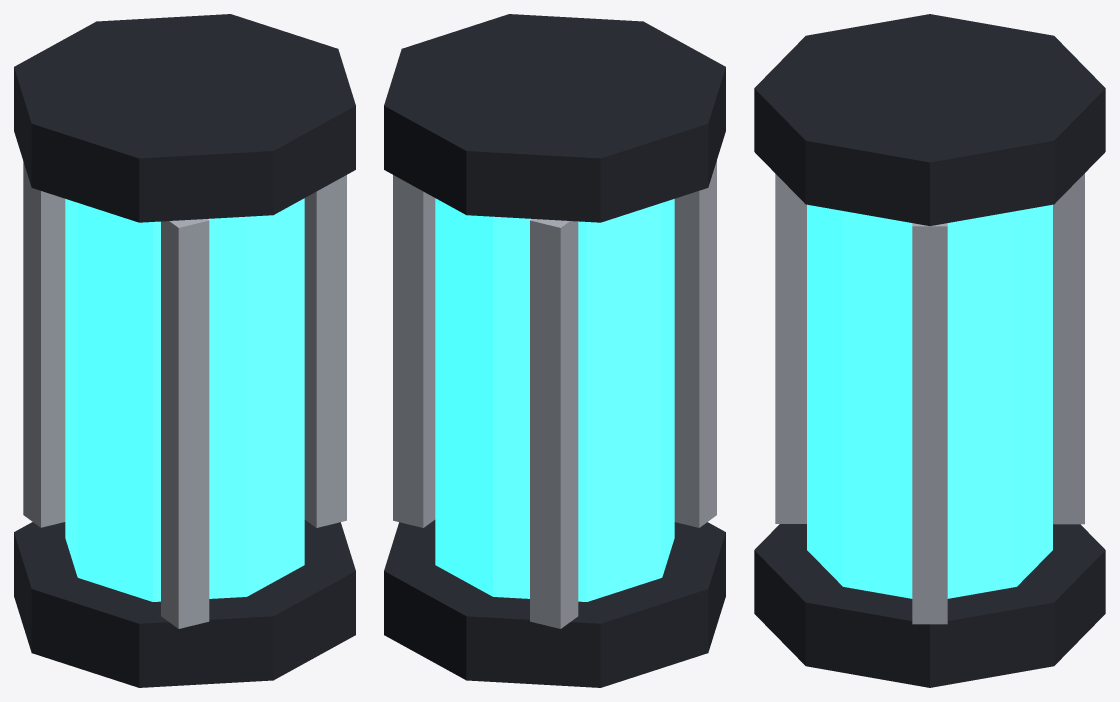
The model's file is energy_cell.glb.
3 views of the same model, side by side, from view 1: azimuth 30°, elevation 25°; view 2: azimuth 150°, elevation 25°; view 3: azimuth 270°, elevation 25° (orthographic).
Parts seen in each view (by area): view 1: energy_cell; view 2: energy_cell; view 3: energy_cell.
Part boxes in pixels (left/top/right/bottom): energy_cell: left=14, top=14, right=355, bottom=687; energy_cell: left=384, top=14, right=725, bottom=687; energy_cell: left=754, top=14, right=1105, bottom=687.
Size of the model in its own units: 0.2 by 0.33 by 0.2.
